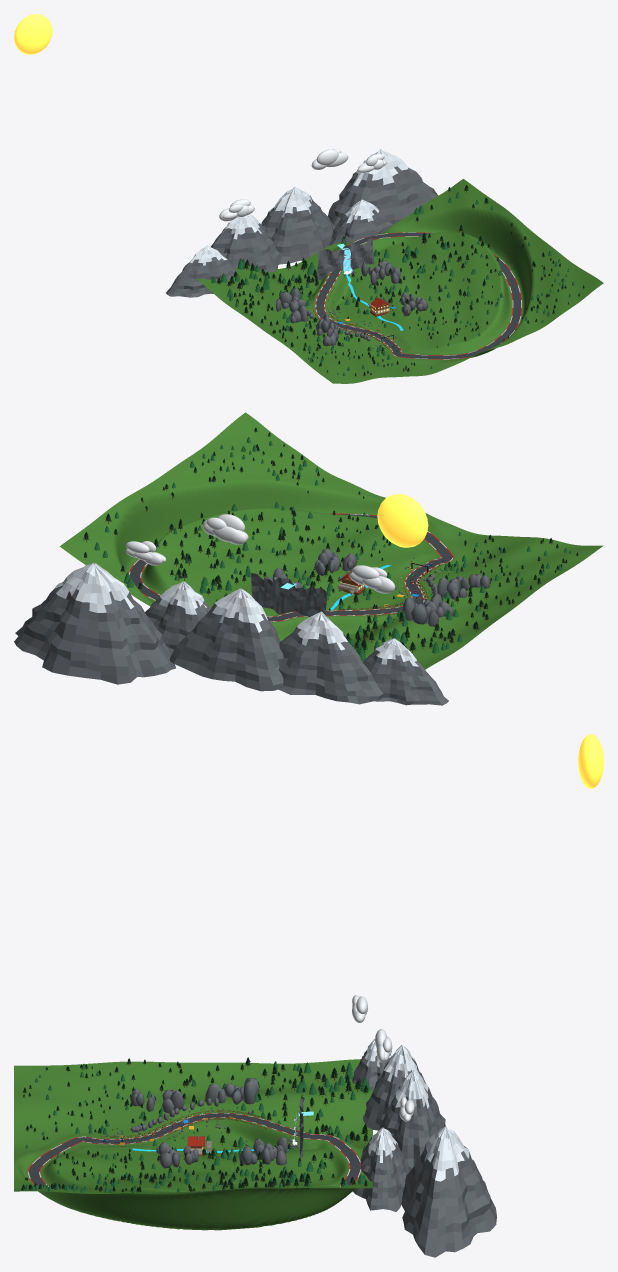
File: blockkart_alpine_golden_scene_v9.glb
3 renders of one model, top to bottom at view 1: azimuth 30°, elevation 25°; view 2: azimuth 150°, elevation 25°; view 3: azimuth 270°, elevation 25°, orthographic. The views are drawn at different scales.
Visible parts, largest first — view 1: Golden valley terrain, Layered alpine peak 5, Layered alpine peak 3, Golden S curve road, Layered alpine peak 2, Layered alpine peak 1, Layered alpine peak 4, Waterfall cliff wall, Low geometry alpine sun; view 2: Golden valley terrain, Layered alpine peak 5, Layered alpine peak 3, Layered alpine peak 2, Layered alpine peak 1, Layered alpine peak 4, Golden S curve road, Waterfall cliff wall, Low geometry alpine sun; view 3: Golden valley terrain, Layered alpine peak 5, Layered alpine peak 3, Golden S curve road, Layered alpine peak 4, Layered alpine peak 2, Low geometry alpine sun, Layered alpine peak 1.
Part boxes in pixels (box(x1,y1,x2,y2)): Golden valley terrain: box(197, 179, 603, 383); Layered alpine peak 5: box(328, 149, 438, 226); Layered alpine peak 3: box(261, 187, 334, 264); Golden S curve road: box(314, 232, 522, 359); Layered alpine peak 2: box(211, 214, 280, 272); Layered alpine peak 1: box(166, 245, 236, 297); Layered alpine peak 4: box(329, 199, 392, 245); Waterfall cliff wall: box(317, 238, 374, 280); Low geometry alpine sun: box(14, 14, 52, 54); Golden valley terrain: box(60, 412, 603, 669); Layered alpine peak 5: box(14, 563, 175, 684); Layered alpine peak 3: box(169, 588, 283, 691); Layered alpine peak 2: box(278, 611, 383, 704); Layered alpine peak 1: box(362, 638, 448, 705); Layered alpine peak 4: box(145, 581, 210, 654); Golden S curve road: box(128, 513, 453, 622); Waterfall cliff wall: box(251, 573, 326, 616); Low geometry alpine sun: box(377, 494, 428, 547); Golden valley terrain: box(14, 1059, 372, 1230); Layered alpine peak 5: box(401, 1126, 496, 1257); Layered alpine peak 3: box(378, 1070, 445, 1170); Golden S curve road: box(27, 1112, 361, 1187); Layered alpine peak 4: box(353, 1127, 409, 1211); Layered alpine peak 2: box(363, 1045, 425, 1130); Low geometry alpine sun: box(578, 734, 603, 788); Layered alpine peak 1: box(352, 1039, 391, 1090).
Size of what is drawn, in the model's own units: 681 by 412 by 731.
